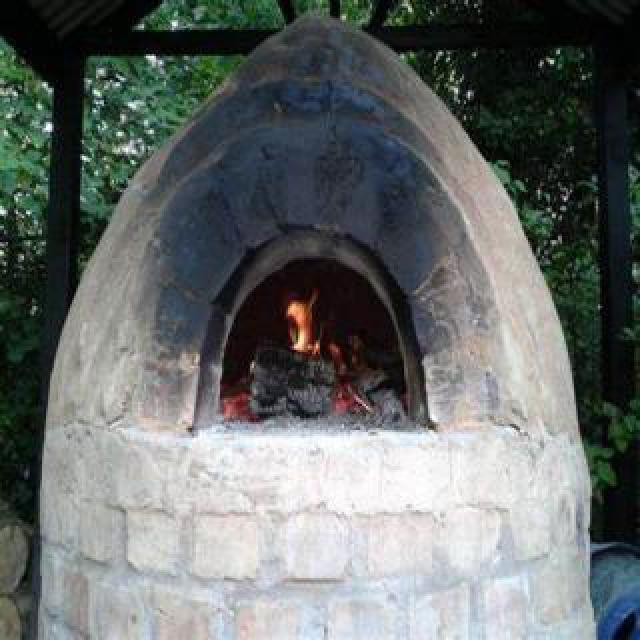Fire: (276, 274, 336, 398)
